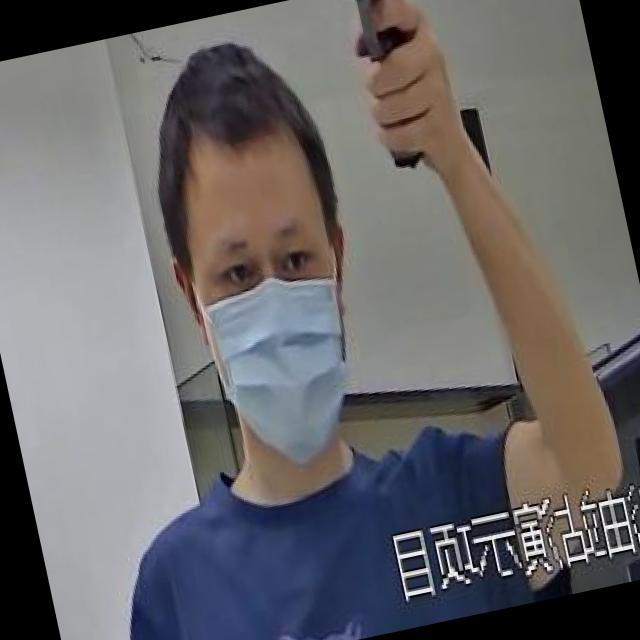Guns: (306, 0, 468, 195)
